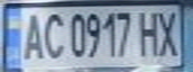0: (66, 9, 84, 60)
1: (100, 9, 118, 57)
7: (115, 8, 136, 57)
9: (84, 9, 103, 58)
A: (18, 9, 45, 61)
C: (39, 9, 66, 61)
H: (136, 8, 163, 57)
X: (154, 7, 184, 57)
